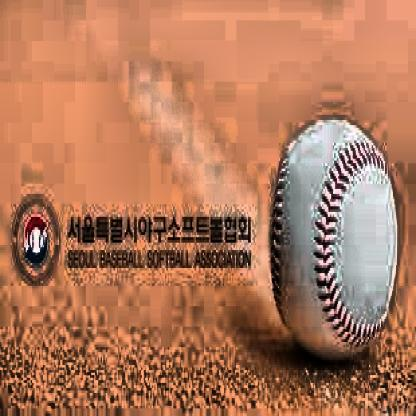baseball: (275, 124, 393, 356)
